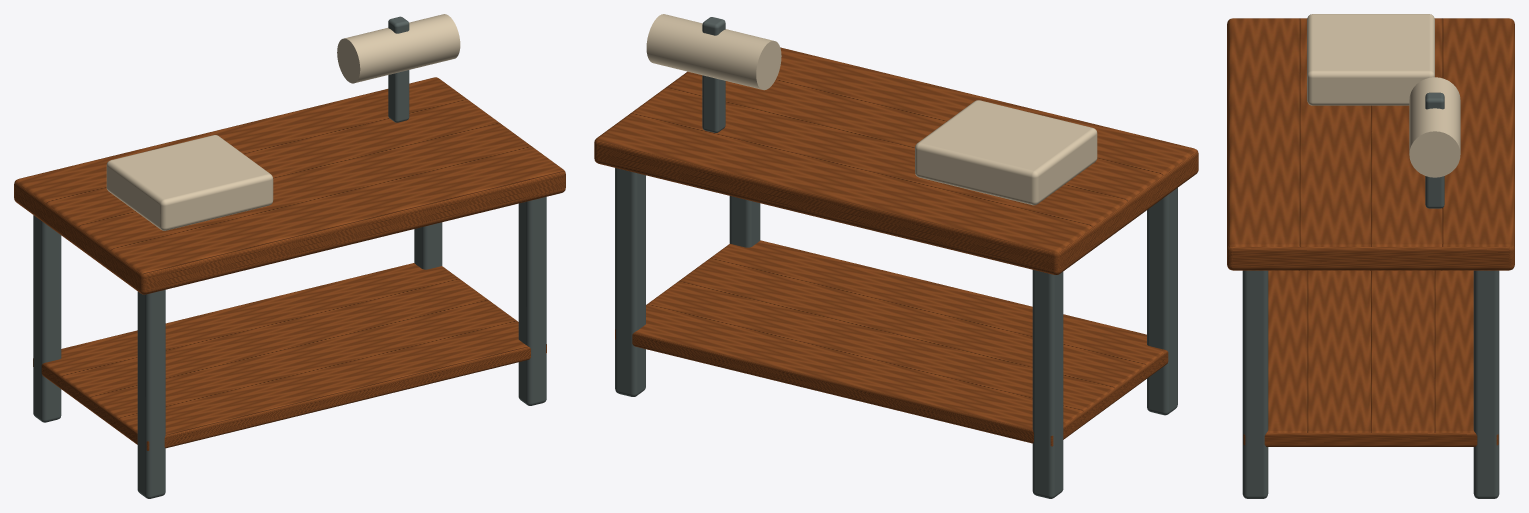
Rendered from ceramics-pottery-studio-packing-station-77d754d0__29526.glb.
3 views of the same model, side by side, from view 1: azimuth 30°, elevation 25°; view 2: azimuth 150°, elevation 25°; view 3: azimuth 270°, elevation 25° (orthographic). The views are drawn at different scales.
Parts seen in each view (by area): view 1: packing-station; view 2: packing-station; view 3: packing-station.
Boxes of the visible parts, bbox=[...] form: packing-station: bbox=[14, 14, 565, 498]; packing-station: bbox=[594, 14, 1198, 498]; packing-station: bbox=[1227, 14, 1514, 498].
Size of the model in its own units: 1.7 by 1.28 by 0.8999.
Materials: 3 (1 with a texture image).
